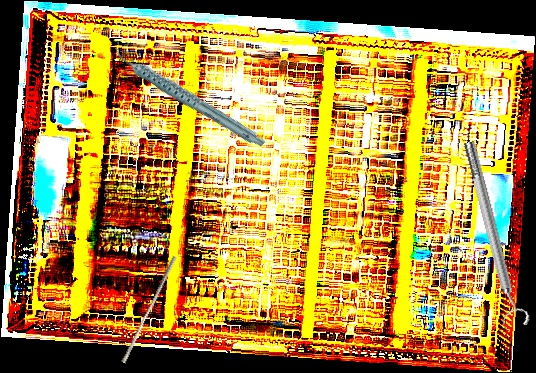Fixation Ring: (455, 138, 532, 331)
Handpiece: (111, 17, 268, 175)
Pusher: (120, 253, 178, 366)
